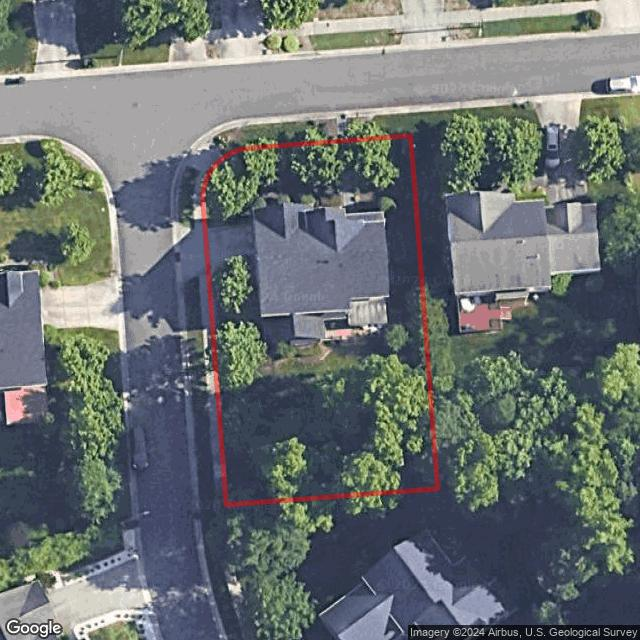Driveway: (206, 221, 258, 277)
Extra-Driveway: (177, 228, 208, 282)
Extra-Lawn: (184, 276, 215, 508), (213, 119, 337, 154), (347, 113, 412, 140), (177, 168, 200, 229)
Extra-Sidewalk: (199, 276, 227, 506), (186, 136, 226, 229), (336, 117, 348, 141)
House: (252, 202, 390, 345)
Lawn: (203, 136, 437, 506)
Other: (324, 320, 381, 342)
Sidewalk: (337, 140, 355, 212)
